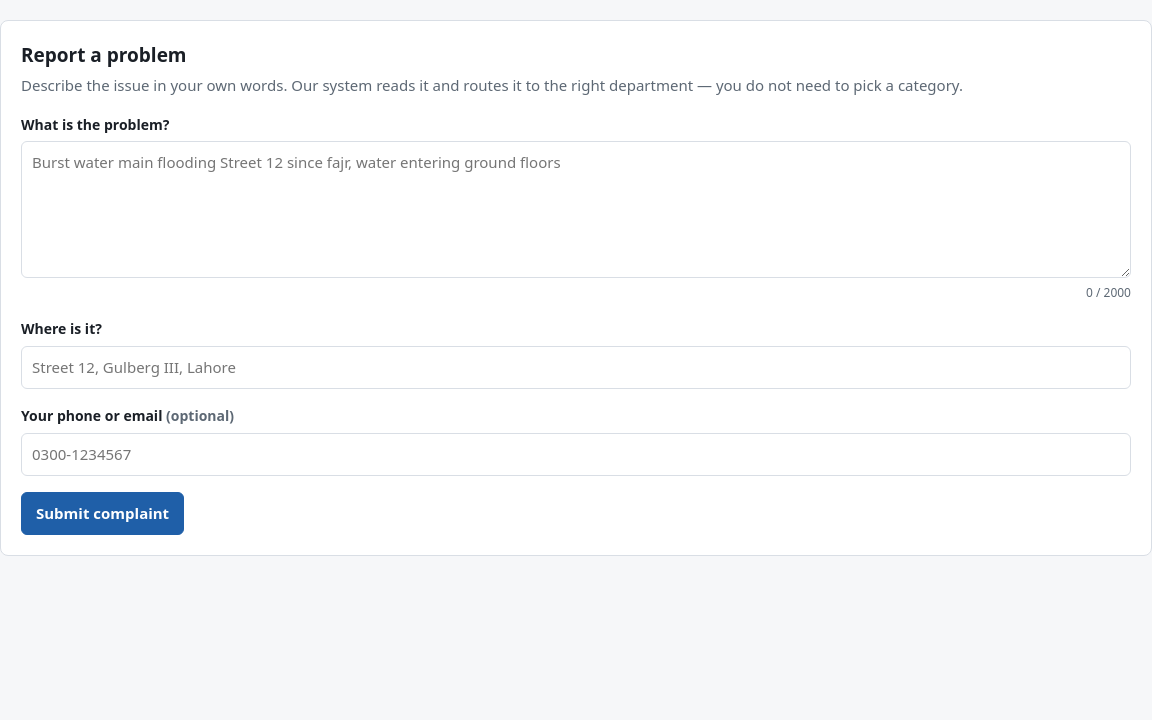
Scenario: SubmitPage › surfaces the server's field-level 400 messages
Type "Street light not working in our lane for one month now." into the text box labelled "What is the problem?" at x=576, y=210, box [21,141,1131,278]
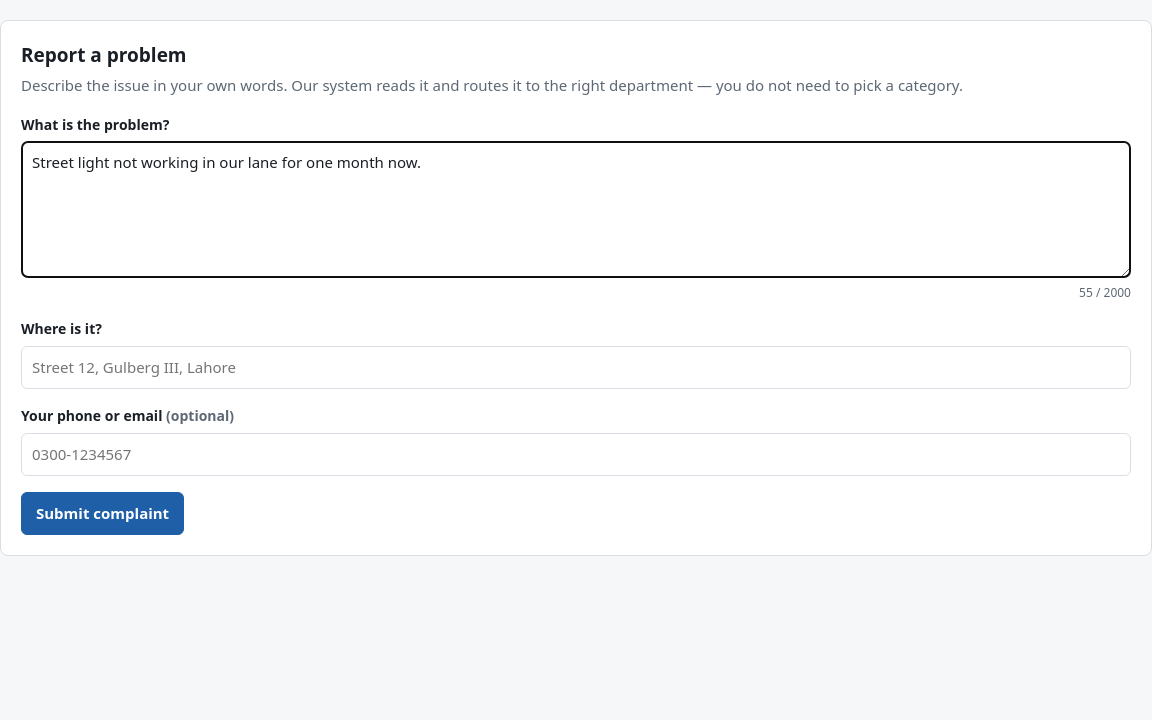
Type "Somewhere else entirely" into the field labelled "Where is it?" at x=576, y=368, box [21,346,1131,389]
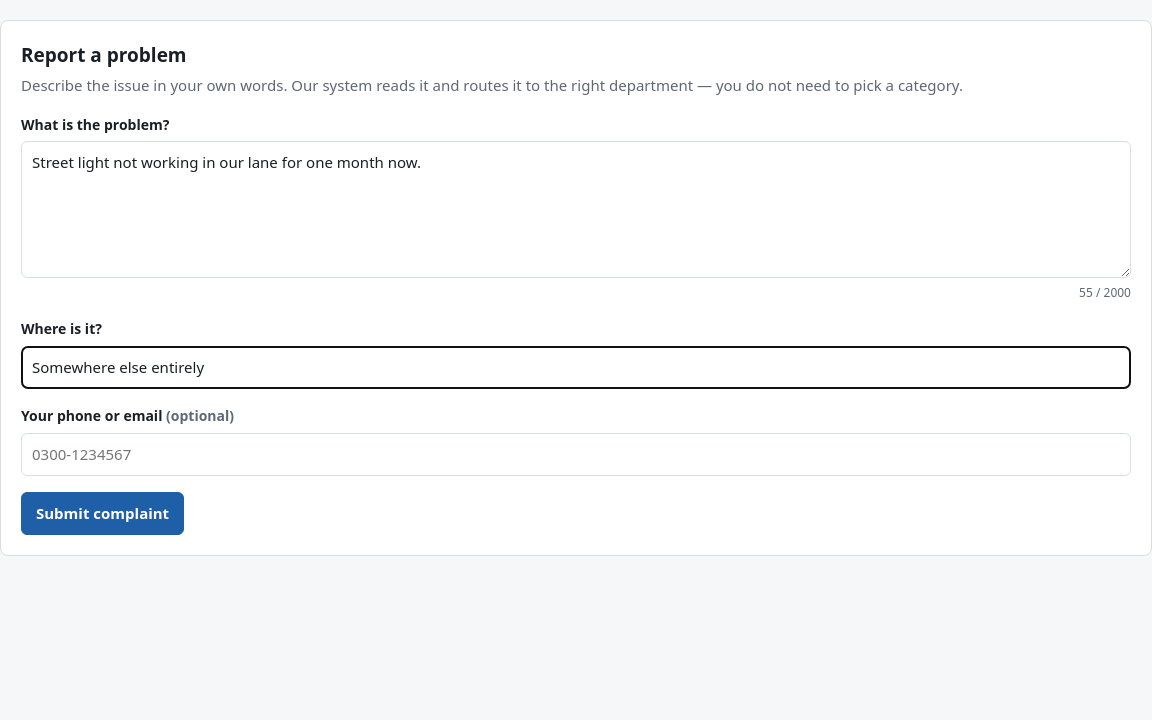
Click the button "Submit complaint" at x=103, y=514, box [21,492,184,535]
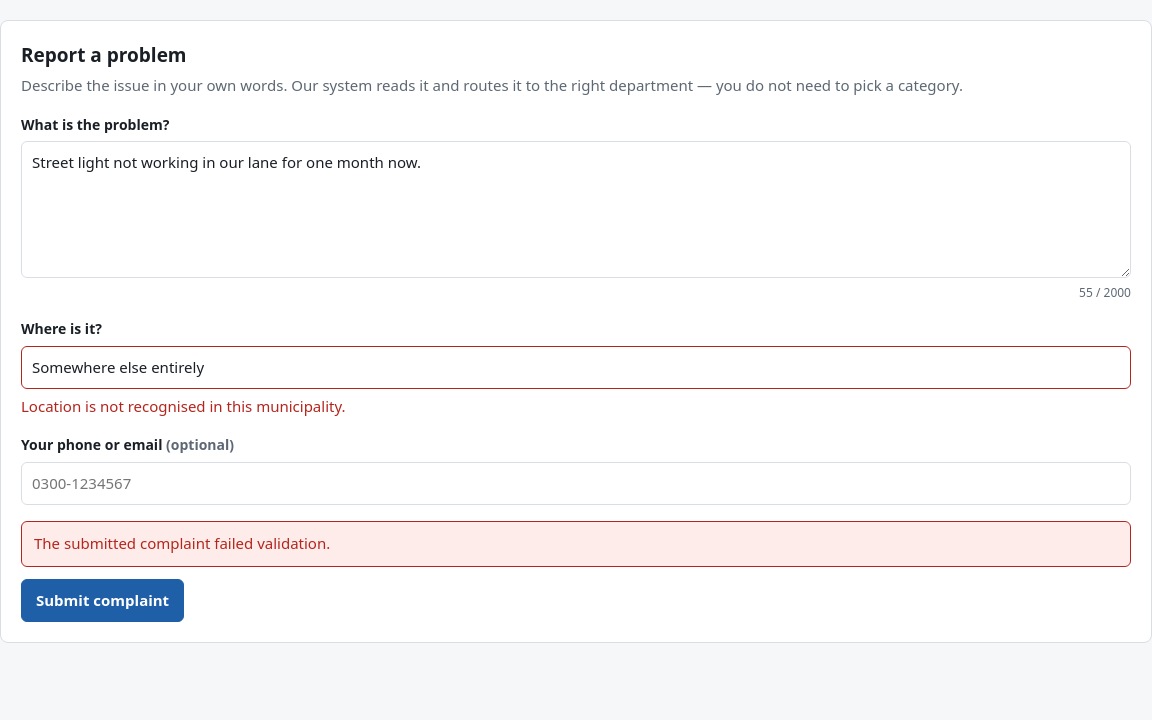
Expected: the text "Location is not recognised in this municipality." is shown, [21,396,346,416]
